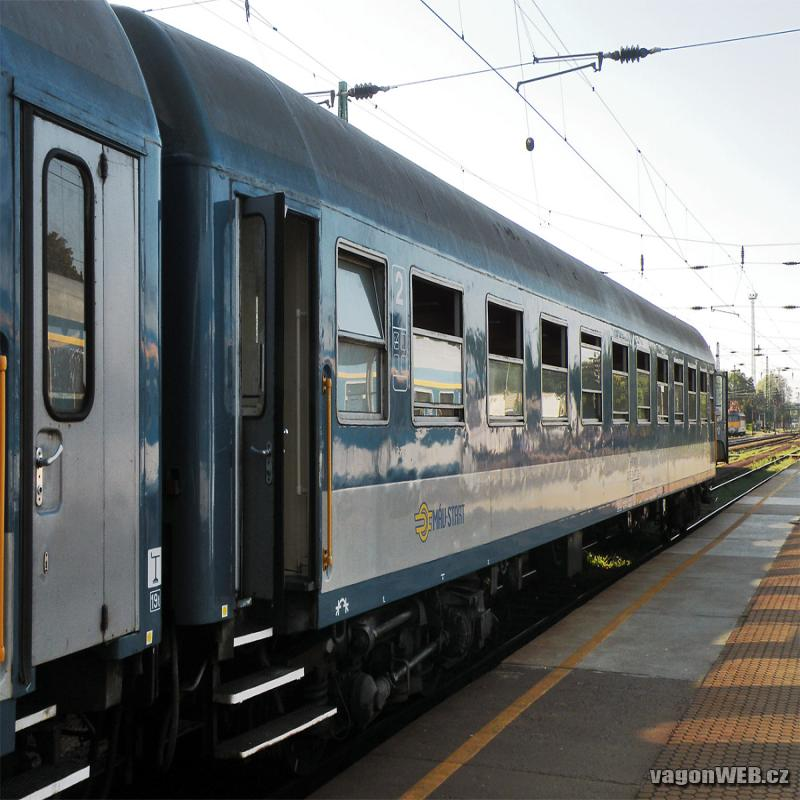train: (137, 10, 724, 798)
